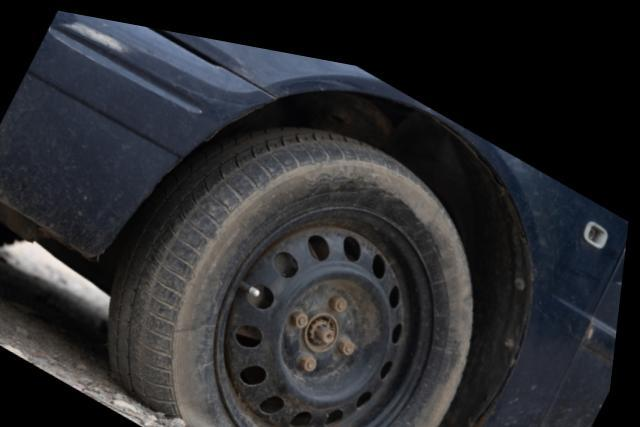tire flat: (113, 112, 476, 427)
